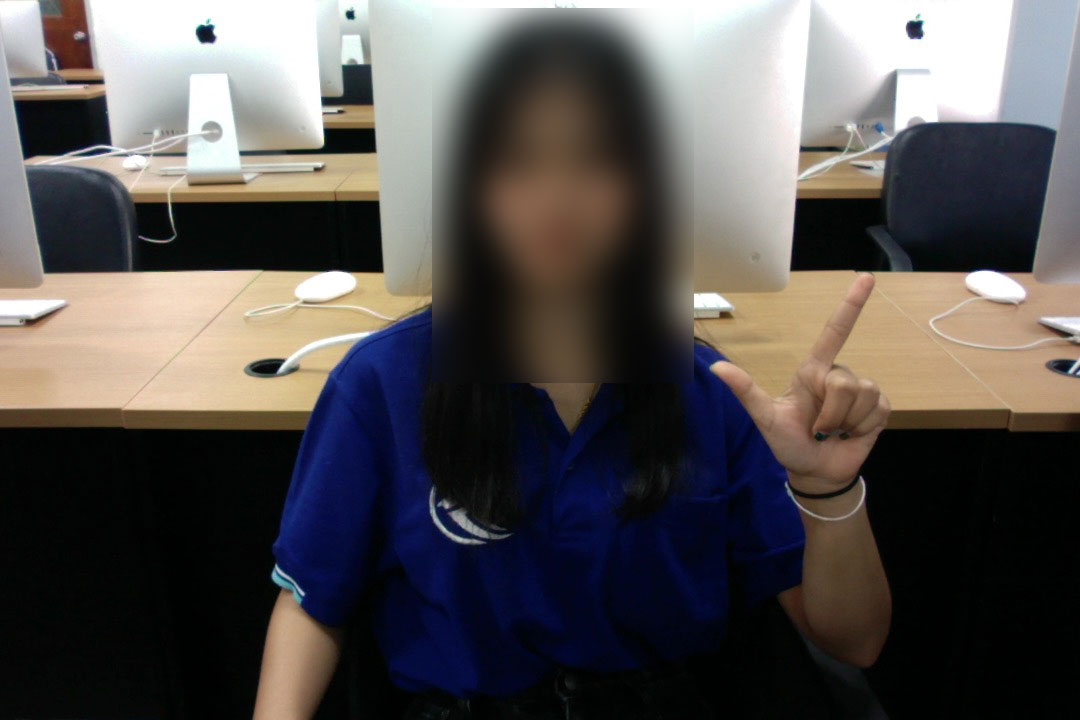lor: (702, 266, 907, 477)
